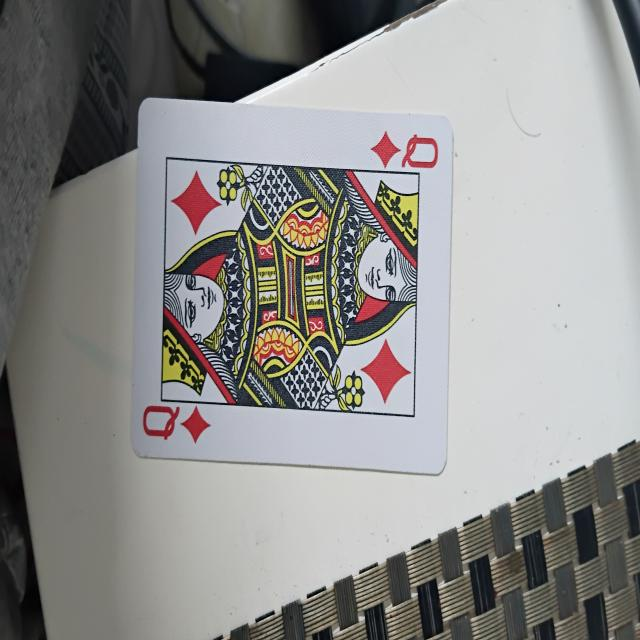QD: (132, 85, 455, 482)
